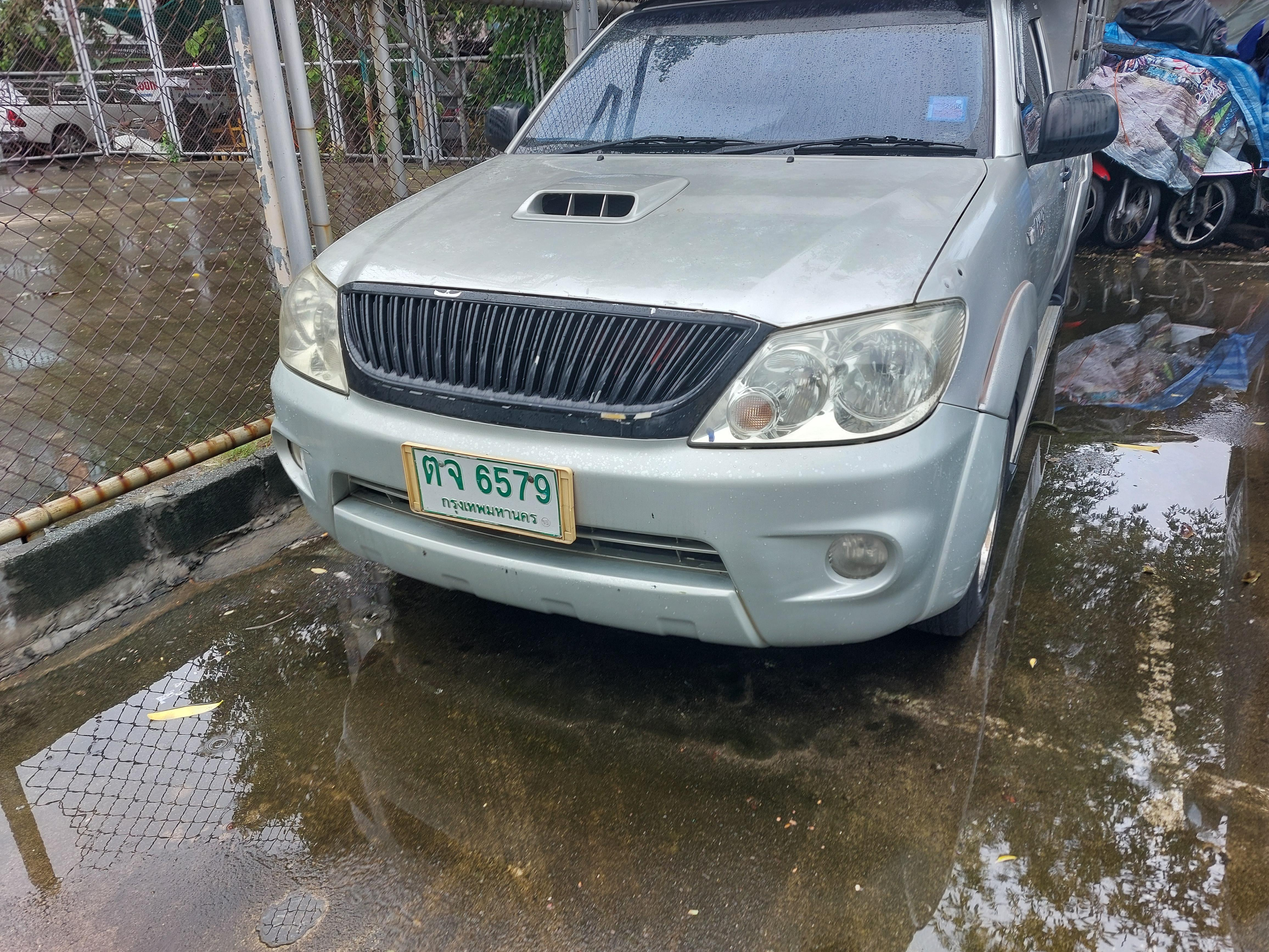license-plate: (401, 436, 581, 553)
